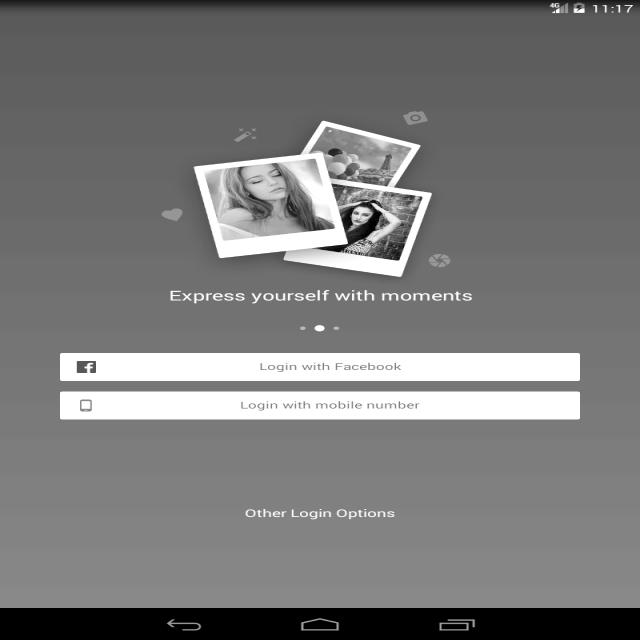Button: (54, 349, 589, 385), (55, 388, 582, 422)
ImageView: (160, 111, 469, 279)
TextView: (169, 287, 476, 305), (241, 506, 398, 520)
